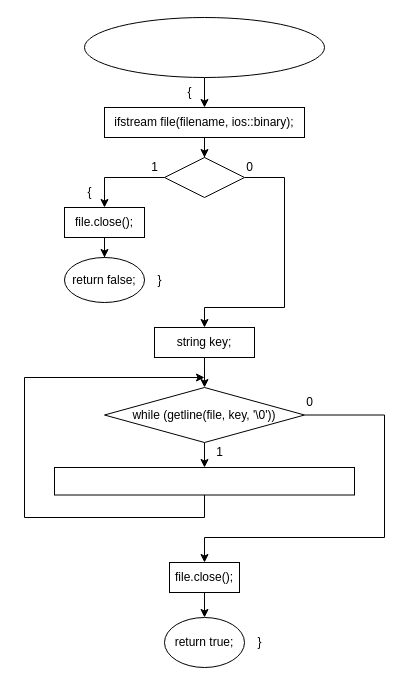
This 410x685 diagram has some shape labels left out. The shapes that lost their labels are listed below. From the top down, each one's box as (x1, y1, x2, y2) in pixels, then its label:
(84, 16, 324, 78): bool unilist_load(UnidirectionalList *list, const string filename)
(164, 156, 244, 198): if (!file)
(54, 466, 354, 495): unilist_add_after(list, new UnidirectionalElement(key));
